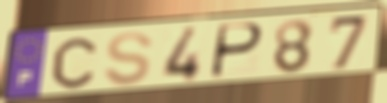4: (159, 25, 204, 84)
7: (327, 15, 370, 72)
8: (272, 18, 314, 75)
C: (51, 36, 99, 90)
P: (207, 21, 266, 81)
S: (101, 30, 155, 88)
